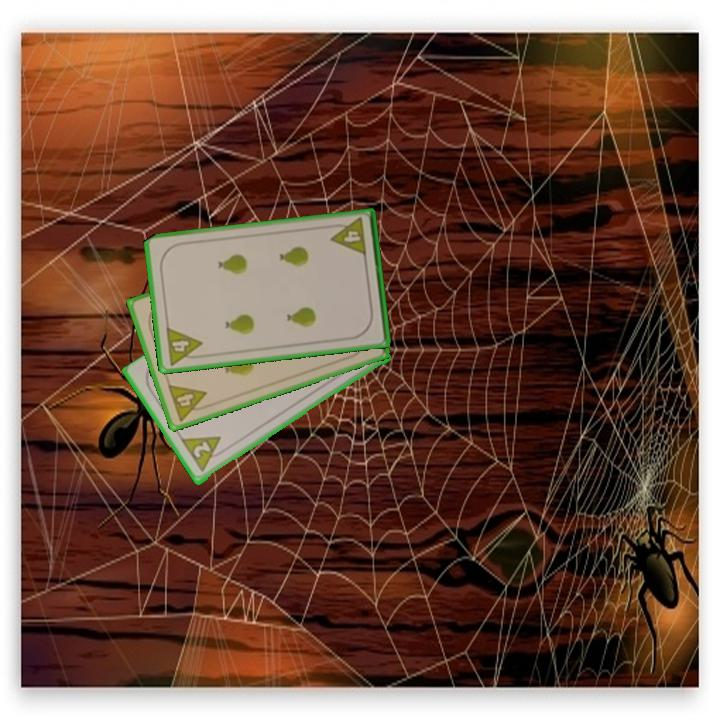2p: (178, 433, 230, 475)
4p: (164, 381, 213, 424), (162, 324, 206, 368), (327, 214, 369, 259)
